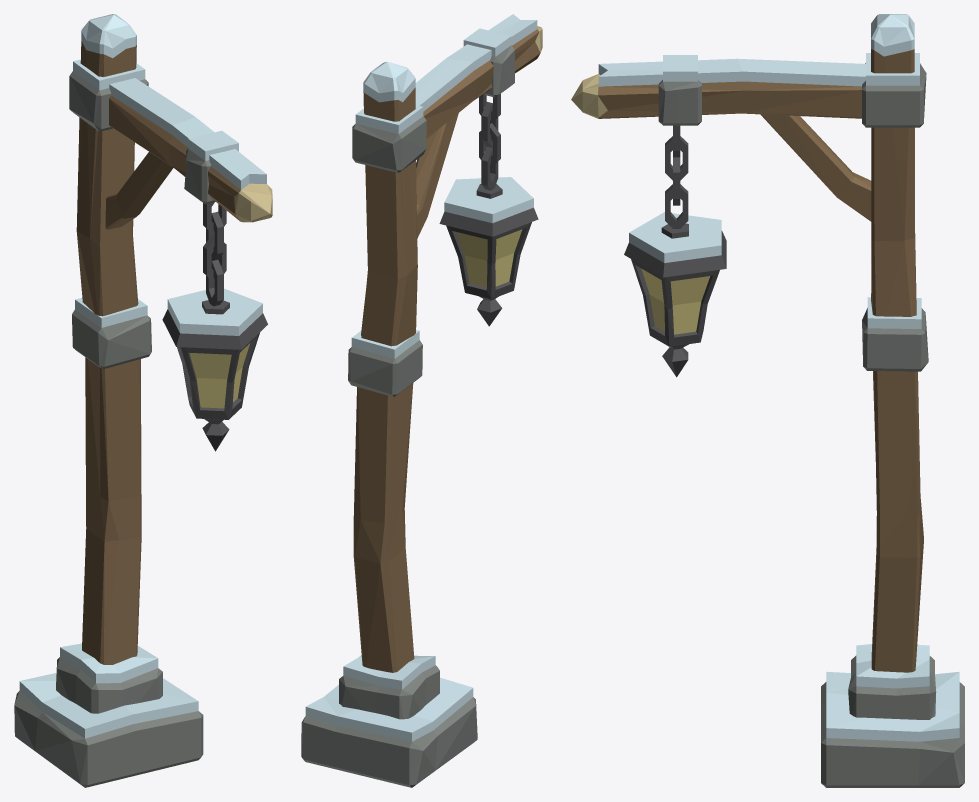
The model's file is SM_Prp_Lampost_01_Snow.gltf.
3 views of the same model, side by side, from view 1: azimuth 30°, elevation 25°; view 2: azimuth 150°, elevation 25°; view 3: azimuth 270°, elevation 25° (orthographic). The views are drawn at different scales.
Visible parts, largest first — view 1: SM_Prp_Lampost_01_Snow; view 2: SM_Prp_Lampost_01_Snow; view 3: SM_Prp_Lampost_01_Snow.
Boxes of the visible parts, box(x1,y1,x2,y2) form: SM_Prp_Lampost_01_Snow: box(14, 14, 272, 787); SM_Prp_Lampost_01_Snow: box(301, 14, 542, 787); SM_Prp_Lampost_01_Snow: box(571, 14, 964, 787).
Size of the model in its own units: 0.7212 by 3.92 by 1.87.
Materials: 1 (1 with a texture image).
